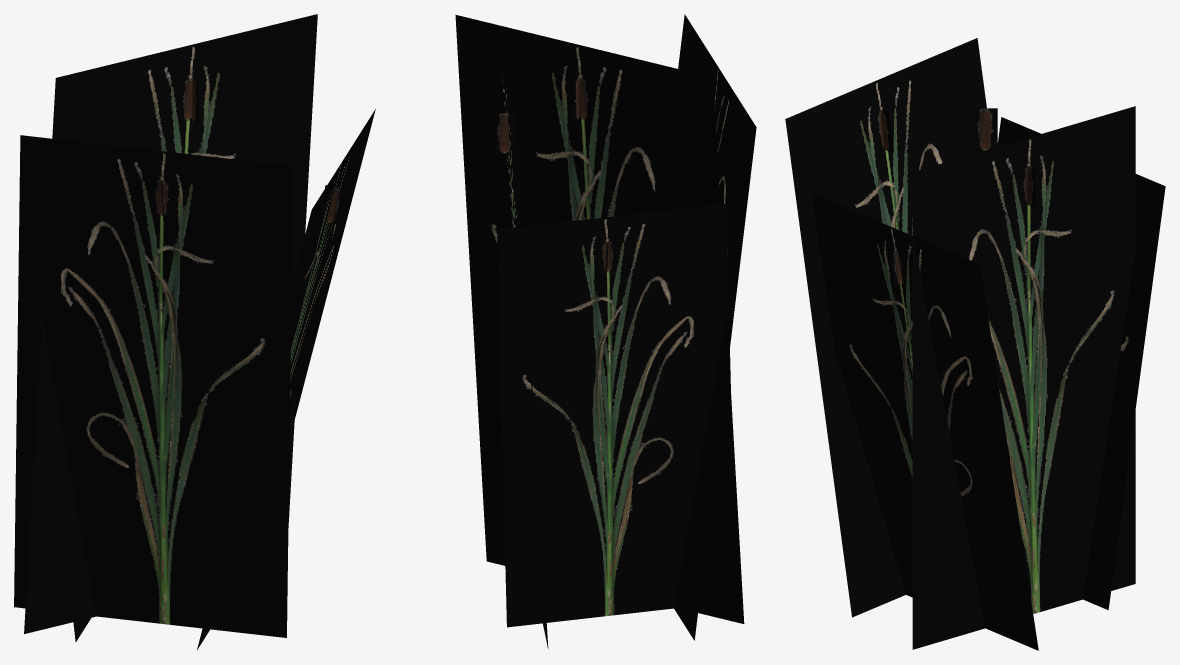
Rendered from cattail.dae.
The picture shows the model from 3 angles, left to right: view 1: azimuth 30°, elevation 25°; view 2: azimuth 150°, elevation 25°; view 3: azimuth 270°, elevation 25°; orthographic projection. The views are drawn at different scales.
Parts seen in each view (by area): view 1: Mesh; view 2: Mesh; view 3: Mesh.
Part boxes in pixels (x1=…): Mesh: x1=14, y1=14, x2=375, y2=649; Mesh: x1=455, y1=14, x2=756, y2=648; Mesh: x1=785, y1=38, x2=1165, y2=650.
Size of the model in its own units: 2.92 by 4.28 by 2.8.
1 material, 1 textured.
